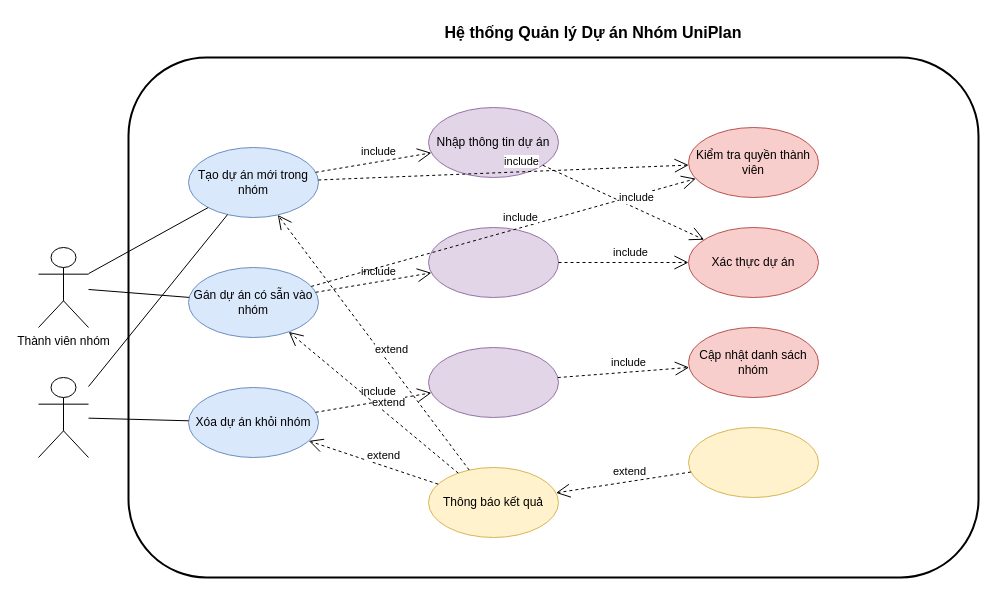
The diagram is 997 pixels wide and 595 high, and some of its shapes have lost their labels. Each missing label, with the box of its shape:
Gửi email thông báo: (688, 426, 818, 498)
Quản trị viên: (38, 376, 88, 458)
Tìm kiếm dự án có sẵn: (428, 226, 558, 298)
Xác nhận quyền sở hữu: (428, 346, 558, 418)
